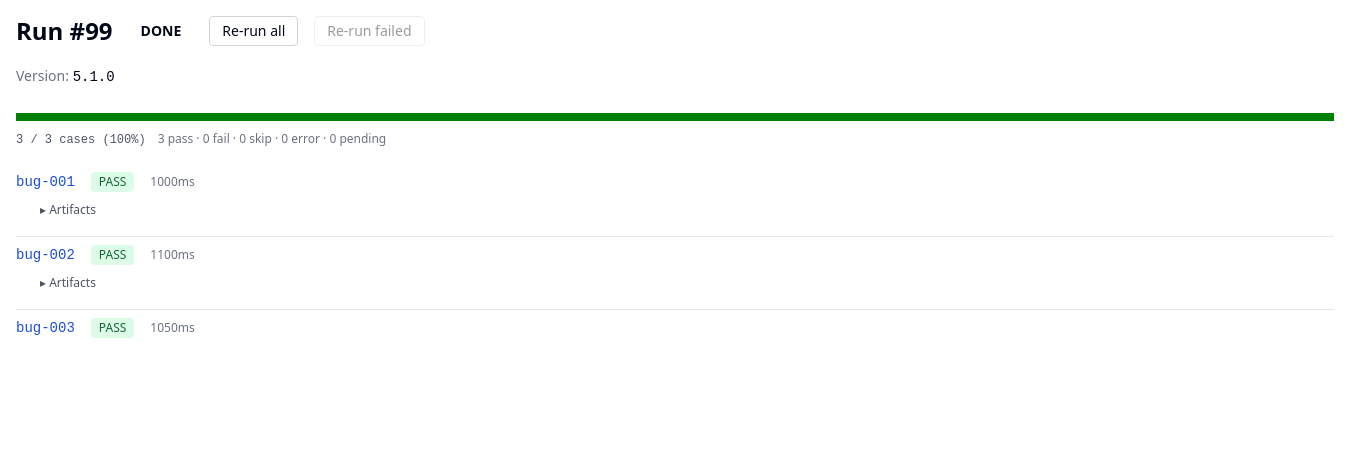
RunDetailPage › View button renders file text on first click; re-expand does NOT re-fetch
# Open artifacts panel
Click the button with test id "artifacts-toggle-bug-001".
click(68, 210)  # box top-left (40, 202), bottom-right (96, 218)
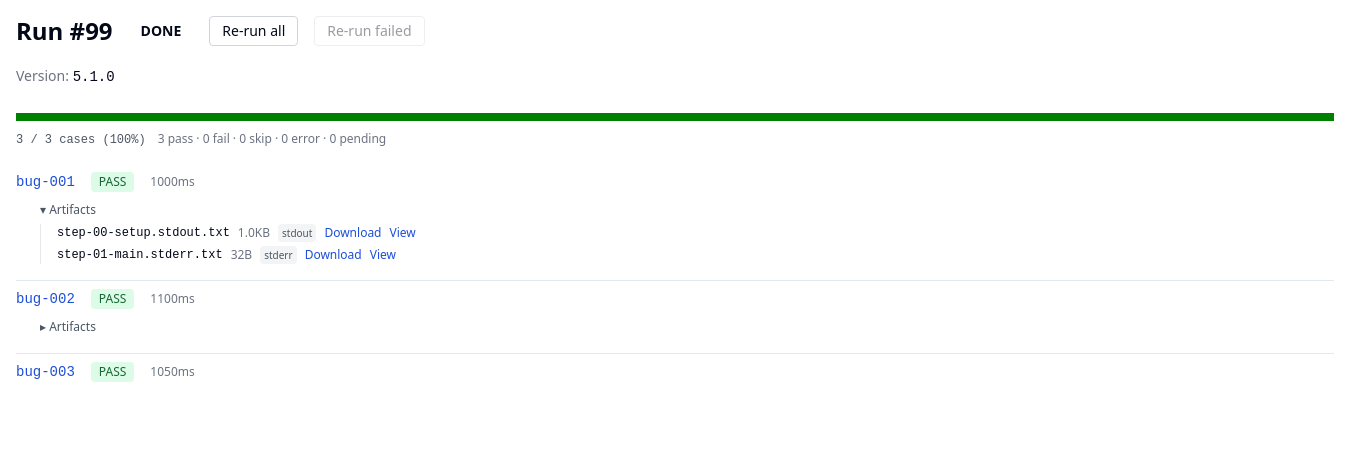
expect the list with test id "artifacts-list-bug-001" is shown: met, box top-left (57, 224), bottom-right (416, 264)
expect the button with test id "artifact-view-bug-001-step-00-setup.stdout.txt" is shown: met
# Click View → fetch fires, content appears
Click the button with test id "artifact-view-bug-001-step-00-setup.stdout.txt".
click(403, 233)  # box top-left (390, 225), bottom-right (416, 241)
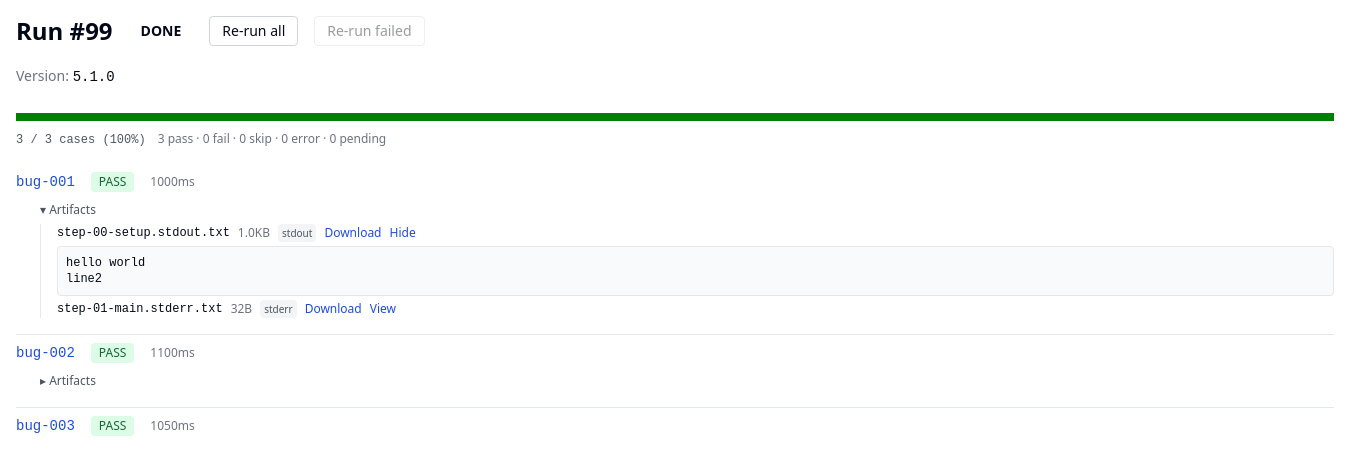
expect the text "hello world line2" is shown: met, box top-left (57, 246), bottom-right (1334, 296)
expect the text with test id "artifact-content-bug-001-step-00-setup.stdout.txt" shows "hello world": met, box top-left (66, 256), bottom-right (145, 286)
# Collapse by clicking Hide
Click the button with test id "artifact-view-bug-001-step-00-setup.stdout.txt".
click(403, 233)  # box top-left (390, 225), bottom-right (416, 241)
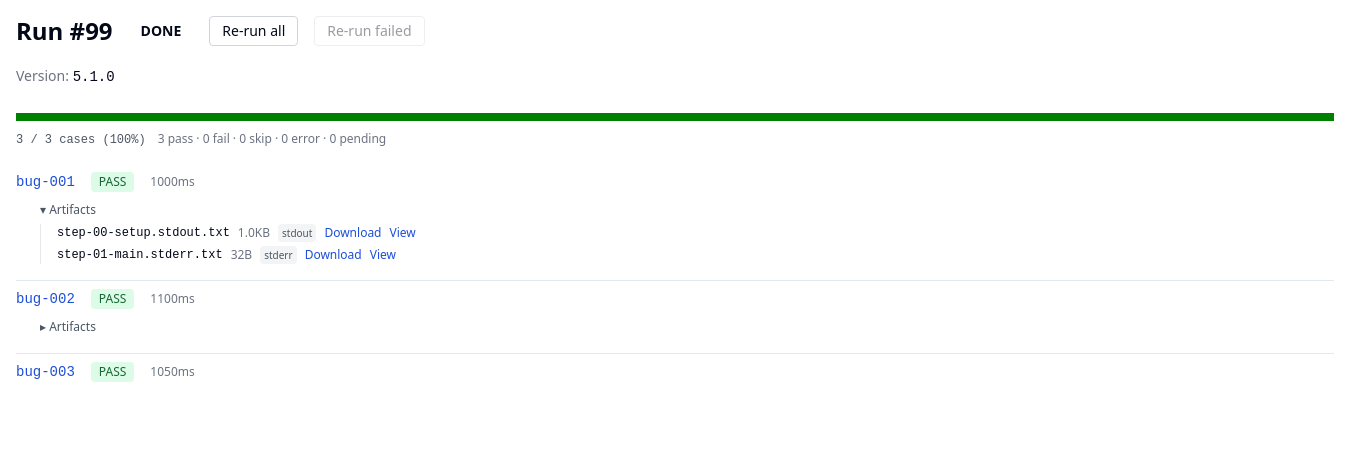
# Re-expand — should NOT trigger a second fetch (cache hit)
Click the button with test id "artifact-view-bug-001-step-00-setup.stdout.txt".
click(403, 233)  # box top-left (390, 225), bottom-right (416, 241)
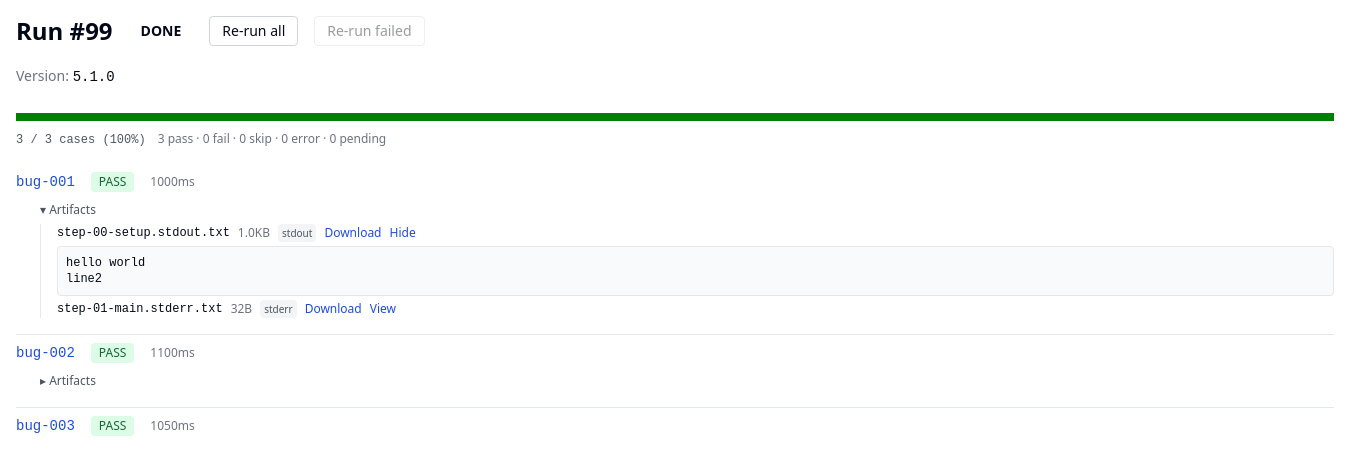
expect the text "hello world line2" is shown: met, box top-left (57, 246), bottom-right (1334, 296)
